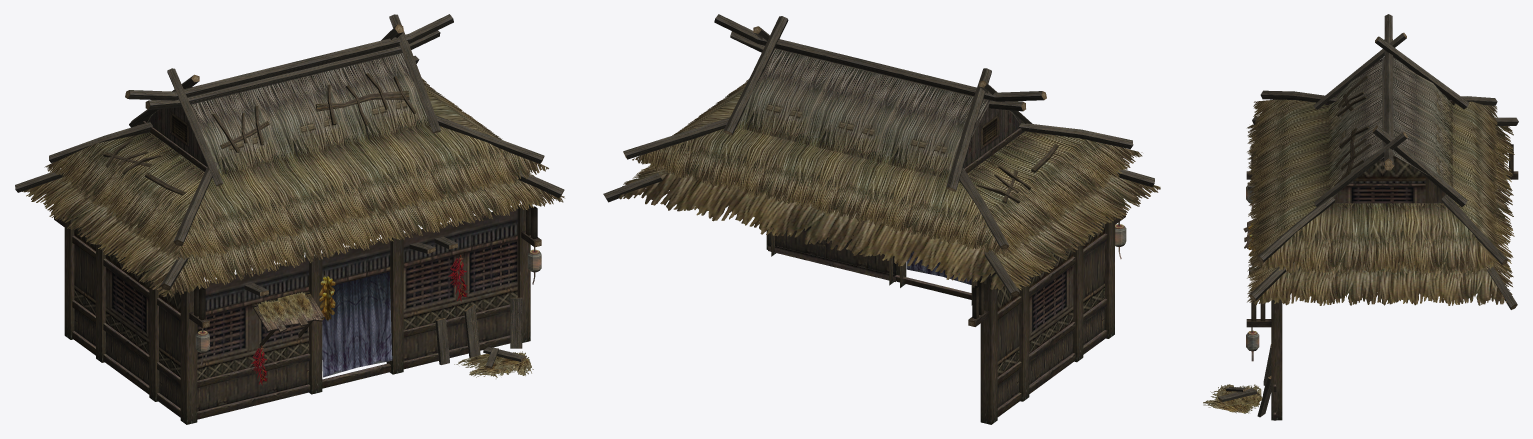
Rendered from JJS_QY_MaoCaoWu02.FBX.
3 renders of one model, left to right at view 1: azimuth 30°, elevation 25°; view 2: azimuth 150°, elevation 25°; view 3: azimuth 270°, elevation 25°, orthographic. The views are drawn at different scales.
Parts seen in each view (by area): view 1: JJS_QY_MaoCaoWu02, JJS_QY_MaoCaoWuDing02; view 2: JJS_QY_MaoCaoWuDing02, JJS_QY_MaoCaoWu02; view 3: JJS_QY_MaoCaoWuDing02, JJS_QY_MaoCaoWu02.
Boxes of the visible parts, x1,y1,x2,y2 form: JJS_QY_MaoCaoWu02: (15, 14, 564, 424); JJS_QY_MaoCaoWuDing02: (22, 53, 564, 297); JJS_QY_MaoCaoWuDing02: (619, 48, 1160, 290); JJS_QY_MaoCaoWu02: (603, 14, 1154, 424); JJS_QY_MaoCaoWuDing02: (1247, 57, 1514, 305); JJS_QY_MaoCaoWu02: (1203, 14, 1518, 420).
Bounding box in the file's own units: 1024 × 693 × 761.
